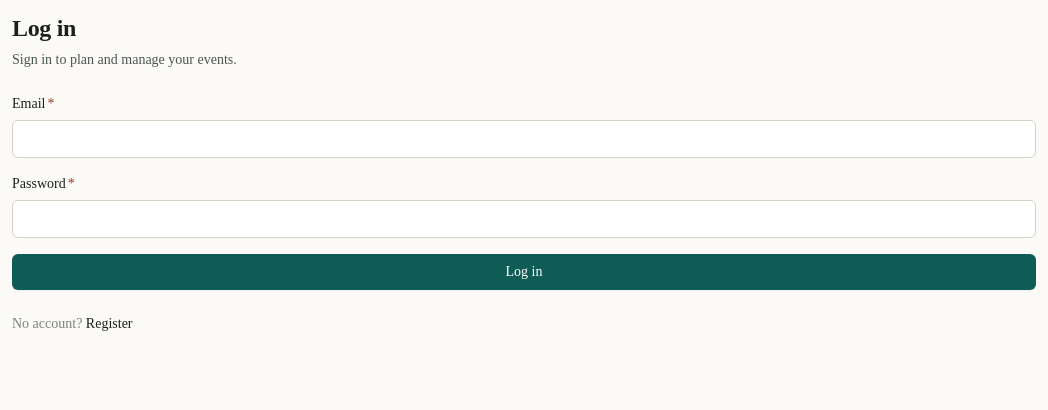
Test: Login page › [SPM-21][AC2] falls back to a general message when the server gives none
Type "rachel@example.com" into the field labelled "Email*".
click(524, 139); type("rachel@example.com")  # box [12, 120, 1036, 158]
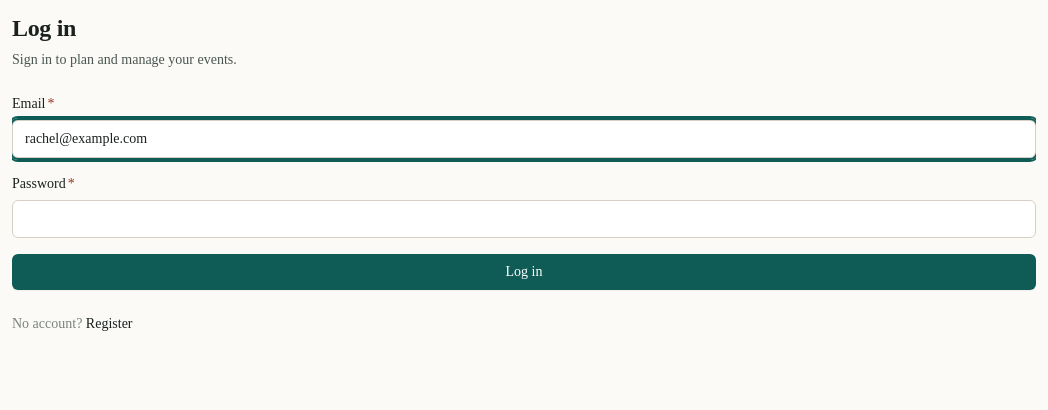
Type "long-enough-pw" into the password field labelled "Password*".
click(524, 219); type("long-enough-pw")  # box [12, 200, 1036, 238]
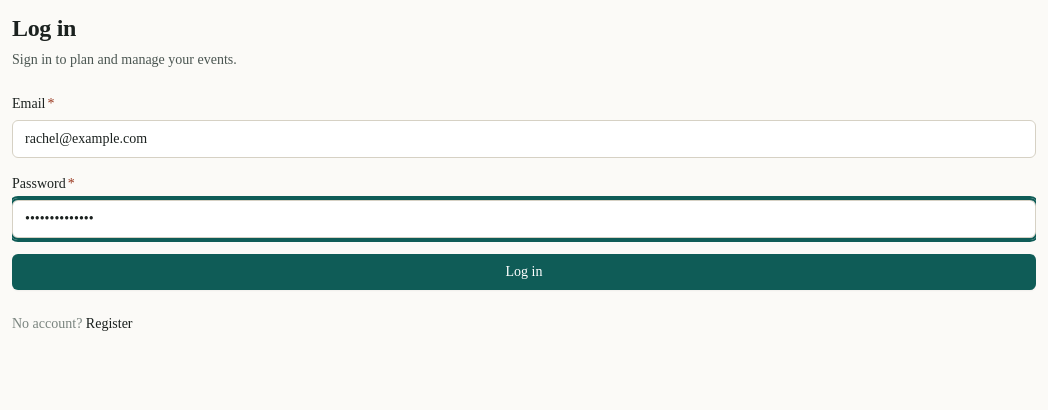
Click the button "Log in".
click(524, 272)  # box [12, 254, 1036, 290]
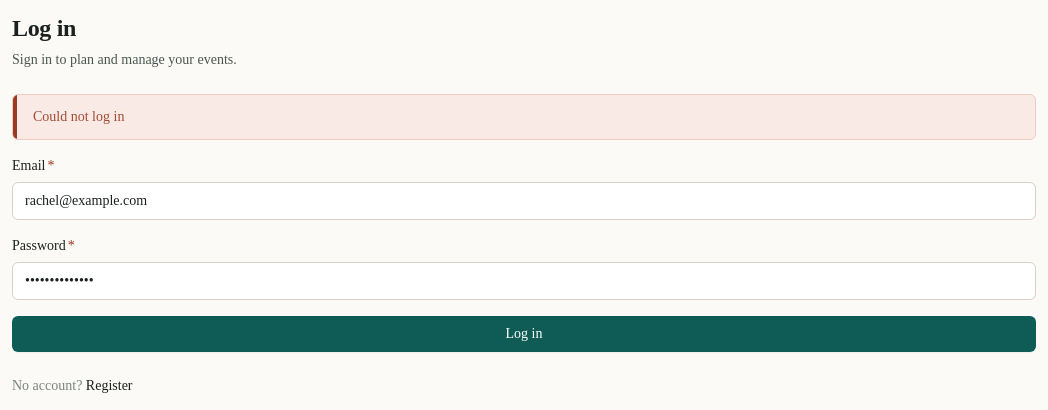
Check: the message reads "Could not log in", box [33, 109, 124, 124]
